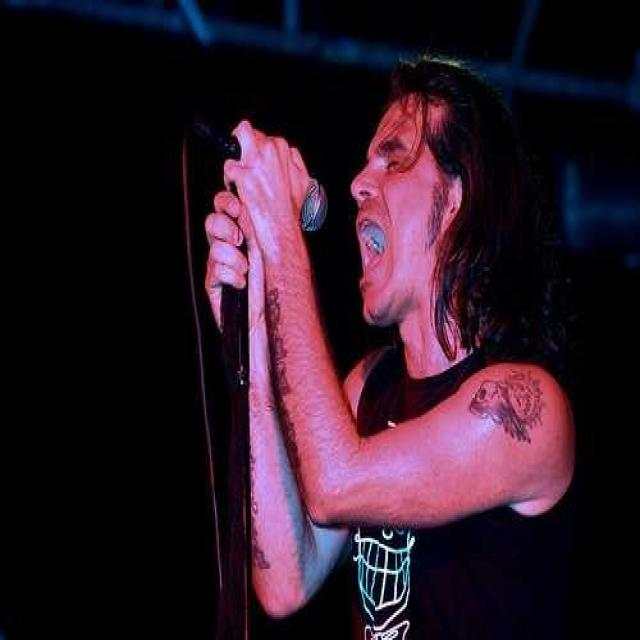microphone: (192, 114, 330, 236)
